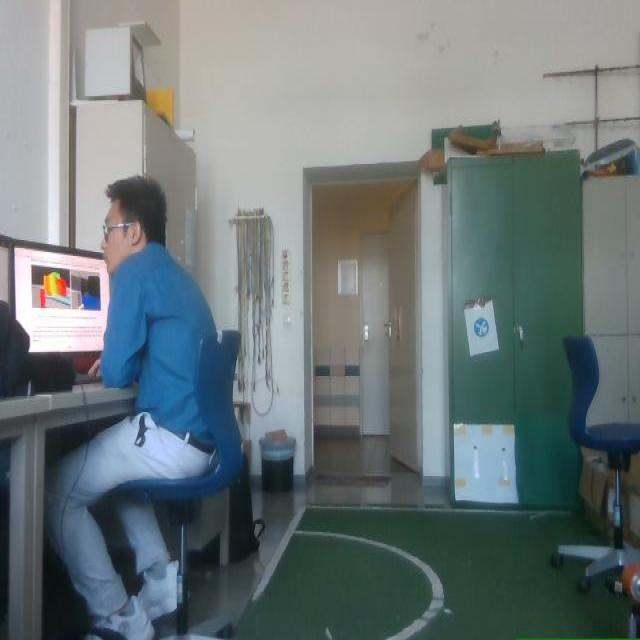humans: (47, 176, 218, 639)
objects: (114, 332, 244, 639), (558, 336, 639, 589), (10, 241, 109, 357)
